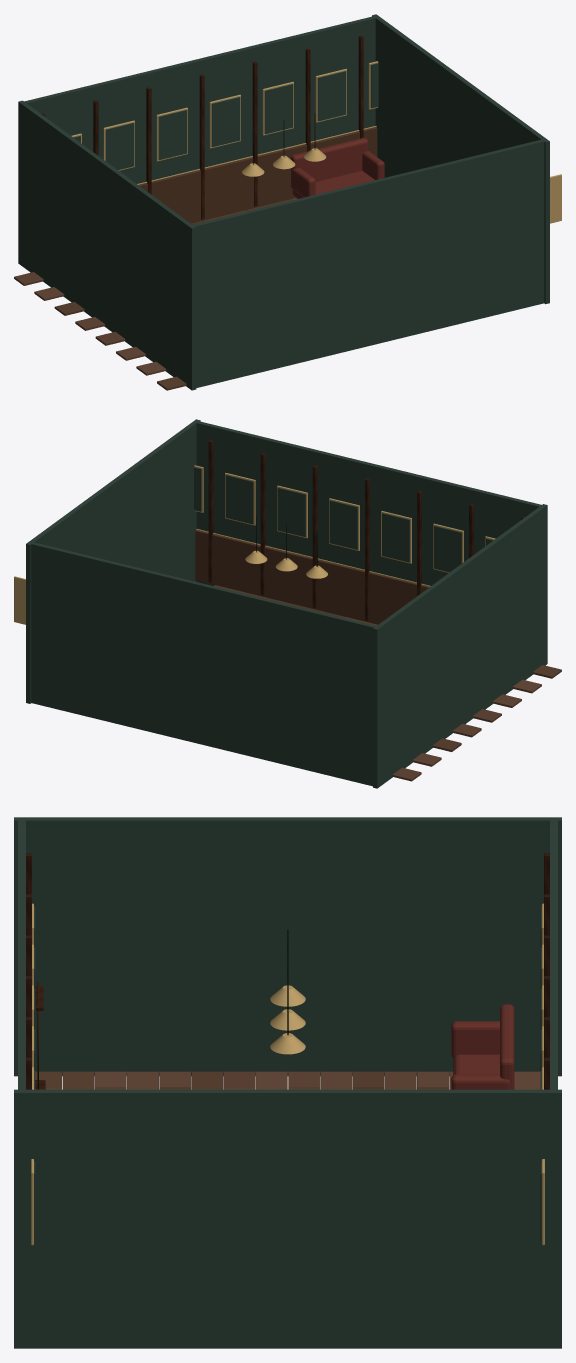
The model's file is club-room.glb.
3 renders of one model, top to bottom at view 1: azimuth 30°, elevation 25°; view 2: azimuth 150°, elevation 25°; view 3: azimuth 270°, elevation 25°, orthographic. The views are drawn at different scales.
Visible parts, largest first — view 1: End wall, Side wall, End wall.001, Side wall.001, Walnut wainscot.001, Leather club sofa back.001, Gallery inset.009, Gallery inset.012, Gallery inset.010, Gallery inset.011, Gallery inset.008, Leather club sofa seat.001 (+8 smaller); view 2: End wall.001, Side wall, End wall, Side wall.001, Walnut wainscot, Gallery inset.003, Gallery inset.005, Gallery inset.004, Gallery inset.002, Gallery inset.001, Wall pilaster.006, Wall pilaster.005 (+4 smaller); view 3: Side wall.001, Side wall, End wall.001, End wall, Sofa arm, Leather club sofa back, Leather club sofa seat, Sofa arm.001.
Boxes of the visible parts, bbox=[...] form: End wall: bbox=[188, 138, 547, 389]; Side wall: bbox=[18, 100, 196, 390]; End wall.001: bbox=[19, 15, 379, 265]; Side wall.001: bbox=[372, 14, 549, 304]; Walnut wainscot.001: bbox=[138, 127, 377, 223]; Leather club sofa back.001: bbox=[291, 138, 368, 181]; Gallery inset.009: bbox=[158, 109, 187, 160]; Gallery inset.012: bbox=[317, 71, 346, 121]; Gallery inset.010: bbox=[211, 97, 240, 147]; Gallery inset.011: bbox=[264, 84, 293, 134]; Gallery inset.008: bbox=[105, 122, 134, 170]; Leather club sofa seat.001: bbox=[292, 171, 374, 198]; End wall.001: bbox=[28, 541, 380, 787]; Side wall: bbox=[373, 504, 547, 788]; End wall: bbox=[193, 420, 546, 665]; Side wall.001: bbox=[26, 419, 200, 703]; Walnut wainscot: bbox=[195, 530, 429, 624]; Gallery inset.003: bbox=[329, 500, 357, 549]; Gallery inset.005: bbox=[225, 475, 253, 524]; Gallery inset.004: bbox=[277, 487, 305, 536]; Gallery inset.002: bbox=[382, 513, 409, 562]; Gallery inset.001: bbox=[434, 525, 461, 572]; Wall pilaster.006: bbox=[208, 440, 213, 582]; Wall pilaster.005: bbox=[260, 453, 265, 595]; Side wall.001: bbox=[14, 1089, 561, 1348]; Side wall: bbox=[14, 817, 561, 1076]; End wall.001: bbox=[550, 817, 557, 1348]; End wall: bbox=[18, 817, 25, 1348]; Sofa arm: bbox=[451, 1021, 499, 1057]; Leather club sofa back: bbox=[500, 1004, 514, 1089]; Leather club sofa seat: bbox=[453, 1054, 499, 1074]; Sofa arm.001: bbox=[451, 1074, 510, 1089].
Size of the model in its own units: 8.95 by 3.52 by 6.8.
Materials: 14 (1 with a texture image).
